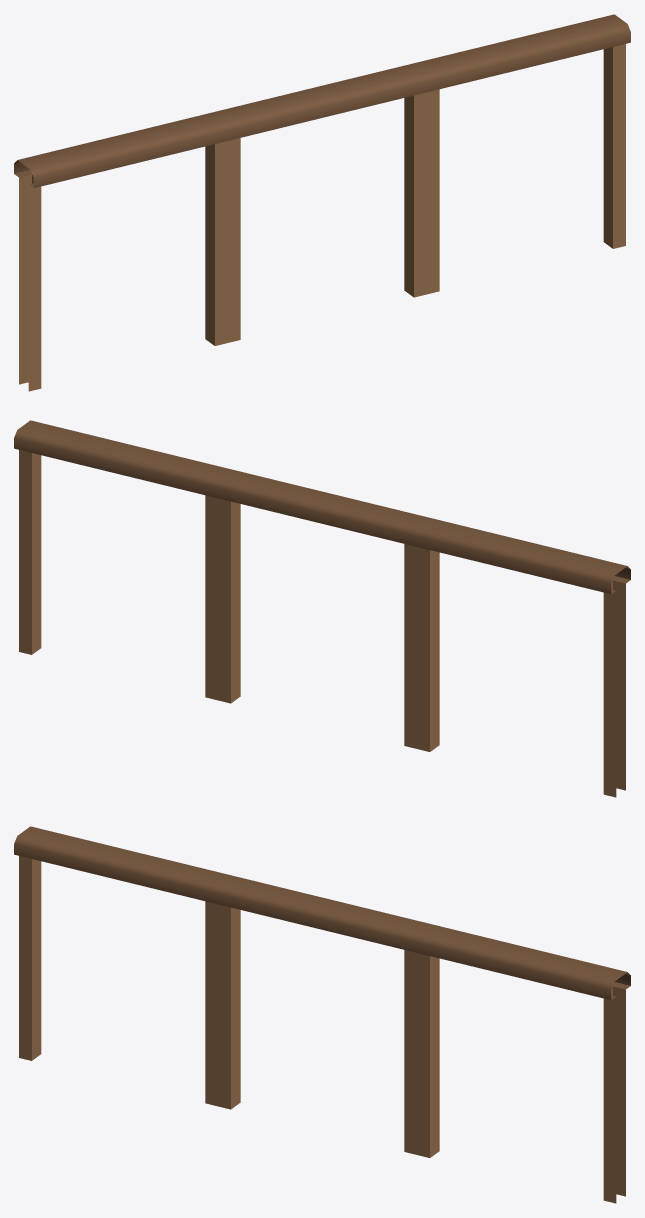
The model's file is SM_Bld_House_FenceRail_02.obj.
The picture shows the model from 3 angles, top to bottom: view 1: azimuth 30°, elevation 25°; view 2: azimuth 150°, elevation 25°; view 3: azimuth 330°, elevation 25°; orthographic projection.
Parts seen in each view (by area): view 1: SM_Bld_House_FenceRail_02_Mat_SwatchOverlay_AtlasSchool_01_WoodR, SM_Bld_House_FenceRail_02_Mat_SwatchOverlay_AtlasSchool_01_Wood_; view 2: SM_Bld_House_FenceRail_02_Mat_SwatchOverlay_AtlasSchool_01_WoodR, SM_Bld_House_FenceRail_02_Mat_SwatchOverlay_AtlasSchool_01_Wood_; view 3: SM_Bld_House_FenceRail_02_Mat_SwatchOverlay_AtlasSchool_01_WoodR, SM_Bld_House_FenceRail_02_Mat_SwatchOverlay_AtlasSchool_01_Wood_.
Boxes of the visible parts, bbox=[...] form: SM_Bld_House_FenceRail_02_Mat_SwatchOverlay_AtlasSchool_01_WoodR: bbox=[19, 44, 625, 391]; SM_Bld_House_FenceRail_02_Mat_SwatchOverlay_AtlasSchool_01_Wood_: bbox=[14, 14, 630, 188]; SM_Bld_House_FenceRail_02_Mat_SwatchOverlay_AtlasSchool_01_WoodR: bbox=[19, 450, 625, 797]; SM_Bld_House_FenceRail_02_Mat_SwatchOverlay_AtlasSchool_01_Wood_: bbox=[14, 420, 630, 594]; SM_Bld_House_FenceRail_02_Mat_SwatchOverlay_AtlasSchool_01_WoodR: bbox=[19, 856, 625, 1203]; SM_Bld_House_FenceRail_02_Mat_SwatchOverlay_AtlasSchool_01_Wood_: bbox=[14, 826, 630, 1000].
Bounding box in the file's own units: 3.5 × 1.25 × 0.2.
2 materials, 2 textured.
